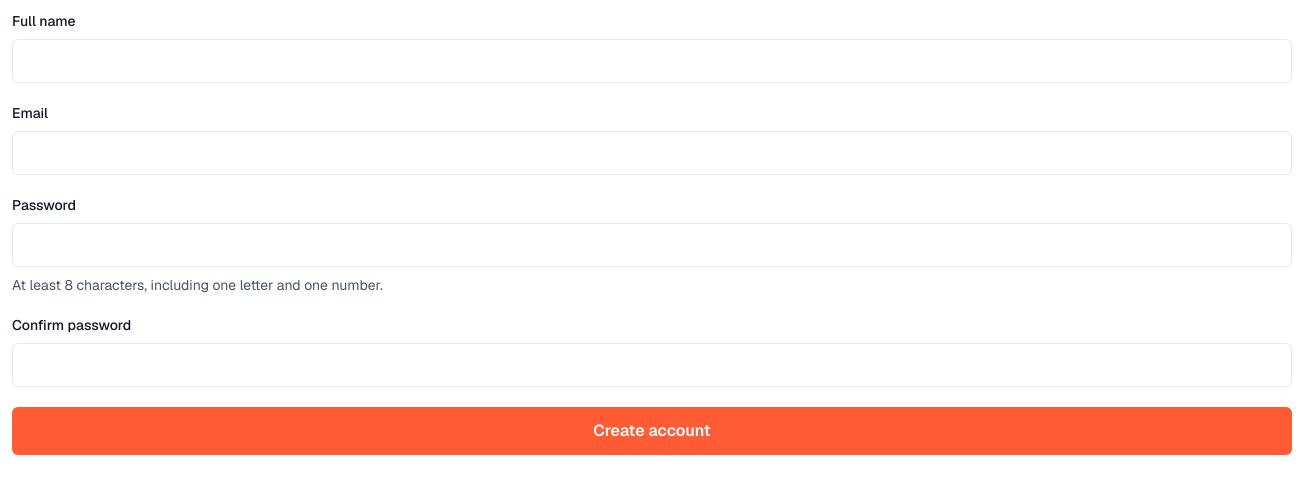
Test case: RegisterForm › keeps what the user typed when the submit is rejected
Type "Ada Lovelace" into the field labelled "Full name" at (652, 61), box [12,39,1292,83]
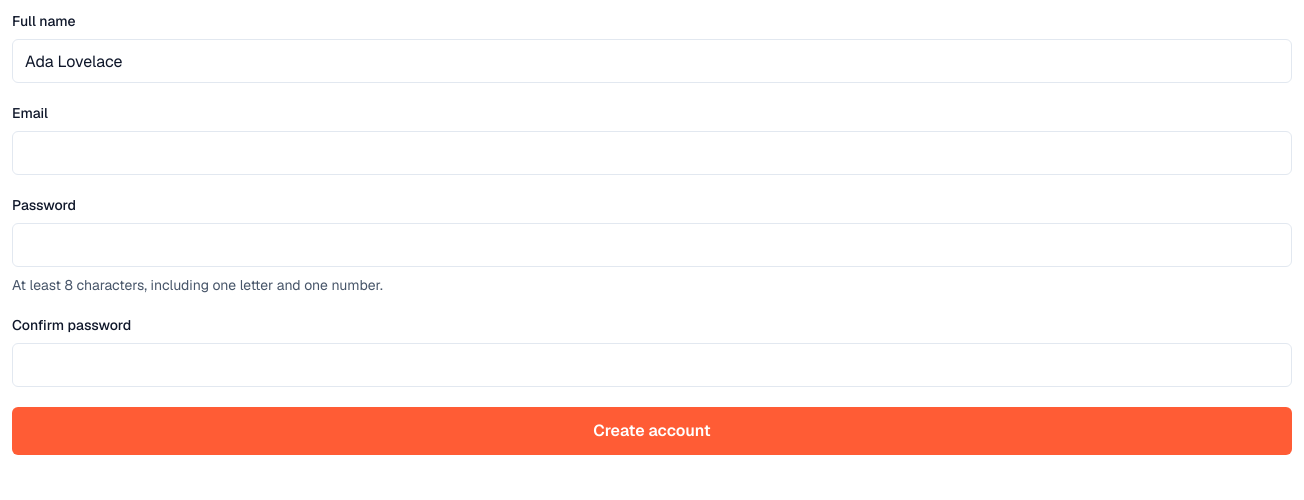
Type "ada@example.com" into the field labelled "Email" at (652, 153), box [12,131,1292,175]
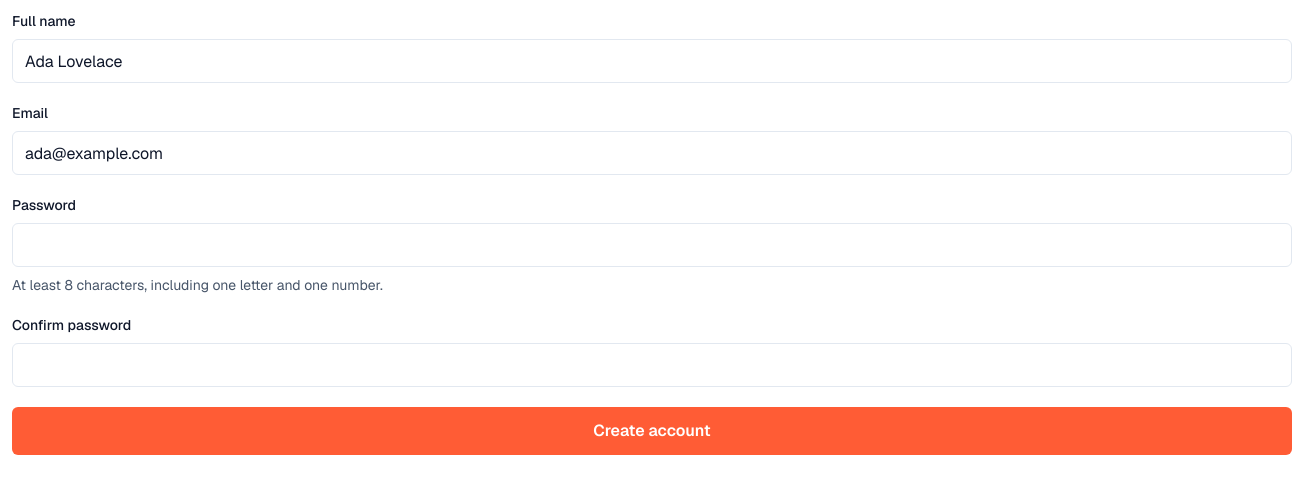
Type "abcdefgh" into the password field labelled "Password" at (652, 245), box [12,223,1292,267]
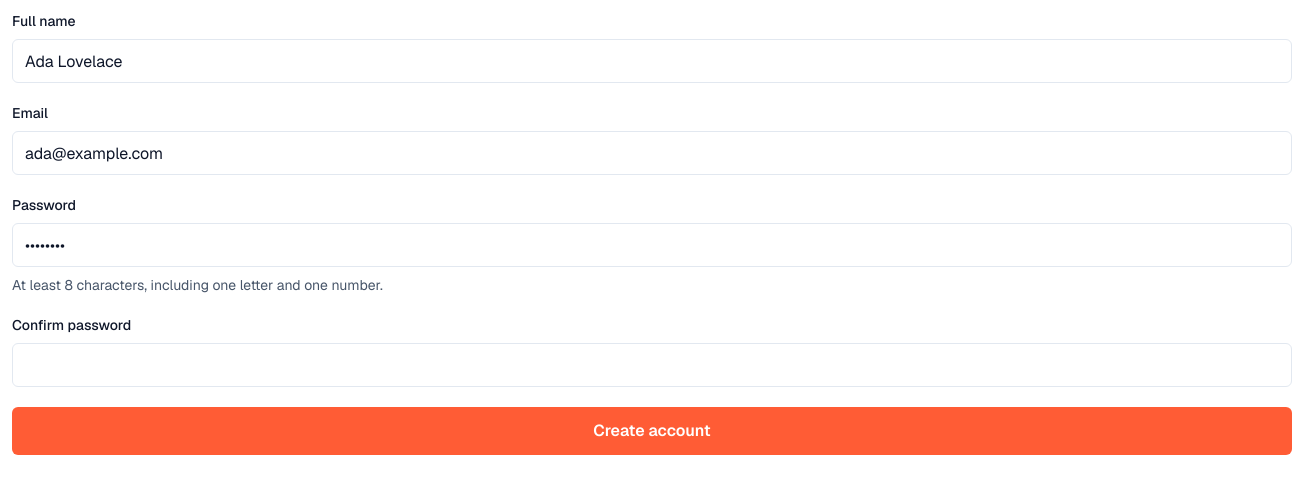
Click the button "Create account" at (652, 431), box [12,407,1292,455]
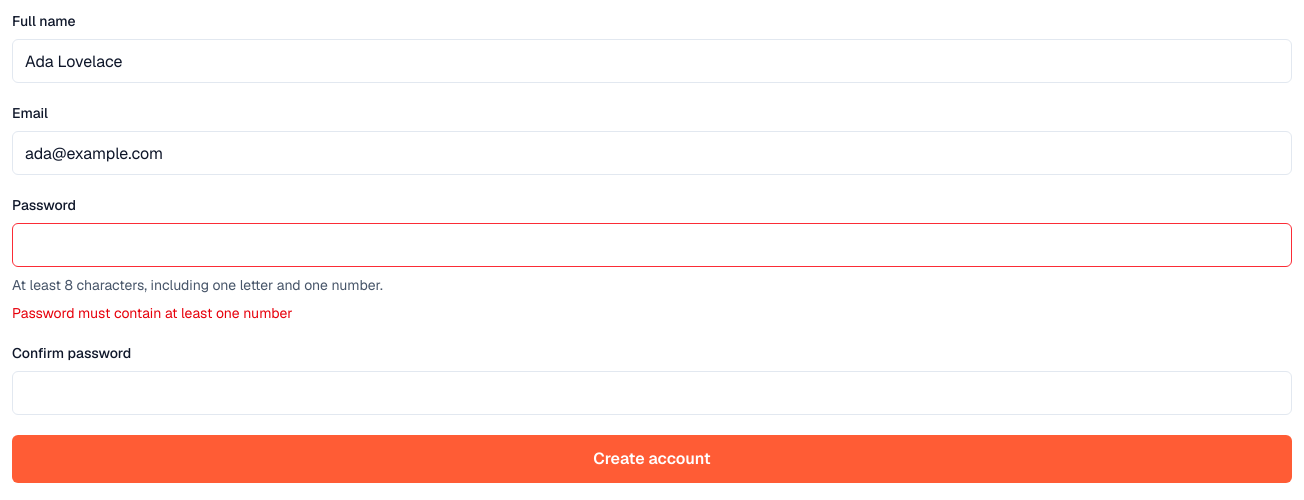
Now the list item "Password must contain at least one number" is shown, box [12,304,292,322]
Now the password field labelled "Password" is empty, box [12,223,1292,267]
